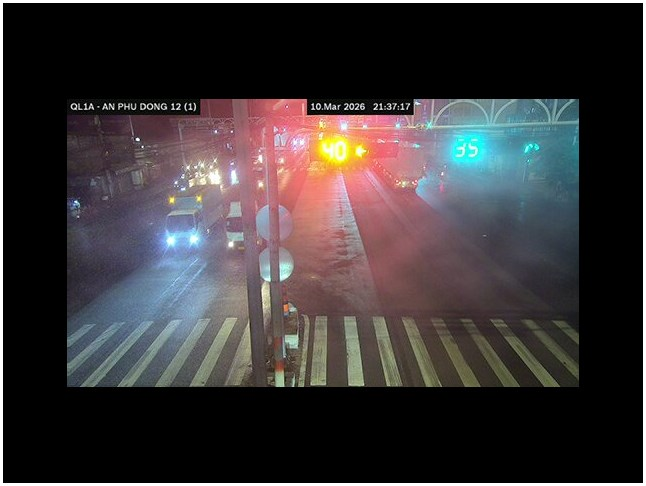car: (159, 209, 207, 251), (68, 197, 82, 219)
